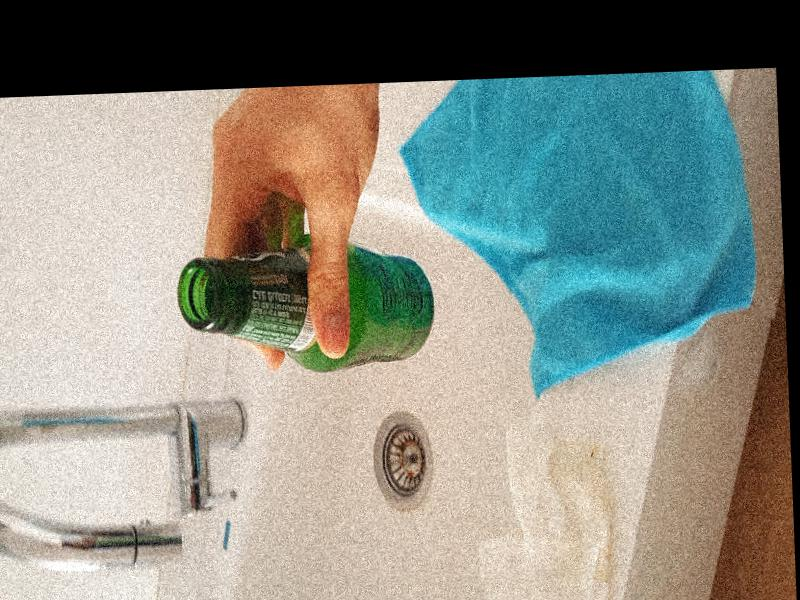Beer: (176, 232, 438, 379)
